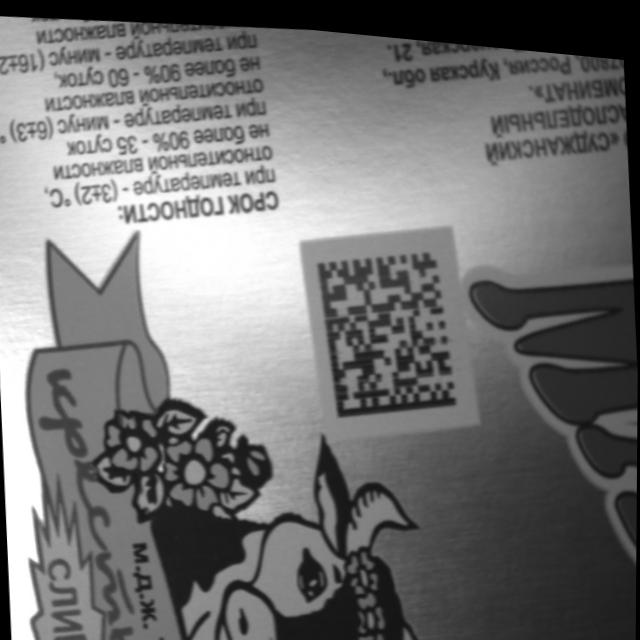datamatrix: (316, 234, 461, 422)
